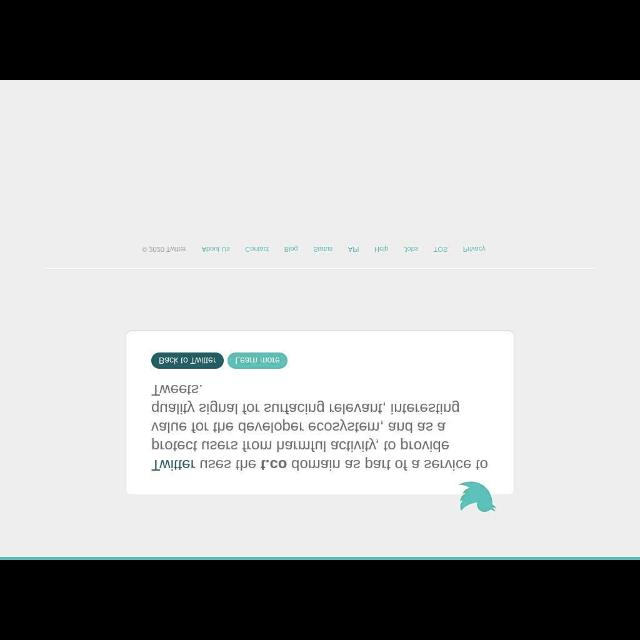image: (459, 482, 496, 512)
multitab: (201, 245, 487, 253)
panel: (127, 330, 515, 496)
text: (150, 384, 488, 472), (159, 356, 217, 364), (142, 245, 186, 253), (236, 358, 280, 364), (201, 245, 231, 252), (462, 245, 486, 253), (246, 245, 270, 252), (313, 245, 333, 252), (374, 245, 390, 253), (284, 244, 298, 253), (403, 245, 419, 252), (434, 245, 448, 253), (348, 245, 360, 253)
textbutton: (152, 353, 224, 369), (228, 353, 288, 369)
